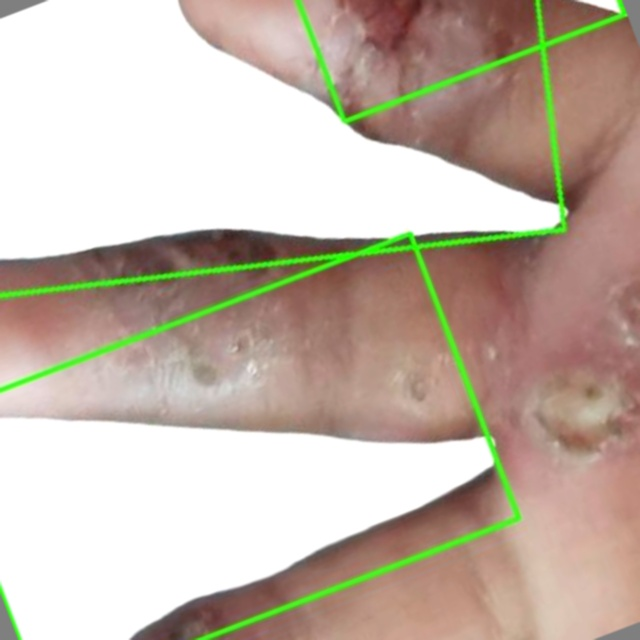Eczema: (0, 233, 518, 639), (0, 0, 565, 283)
